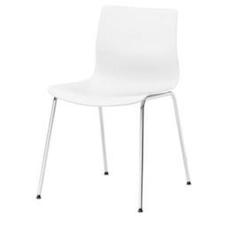chair: (33, 6, 215, 225)
